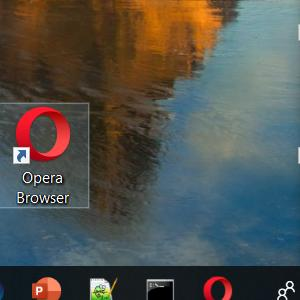opera: (12, 106, 71, 165), (202, 276, 233, 300)
